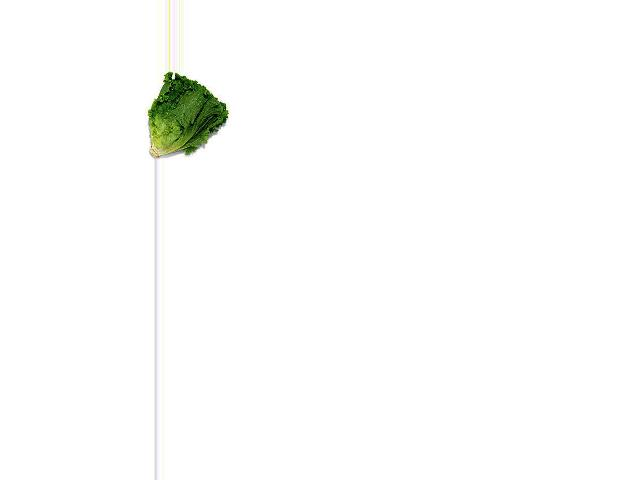lettuce: (141, 72, 235, 160)
